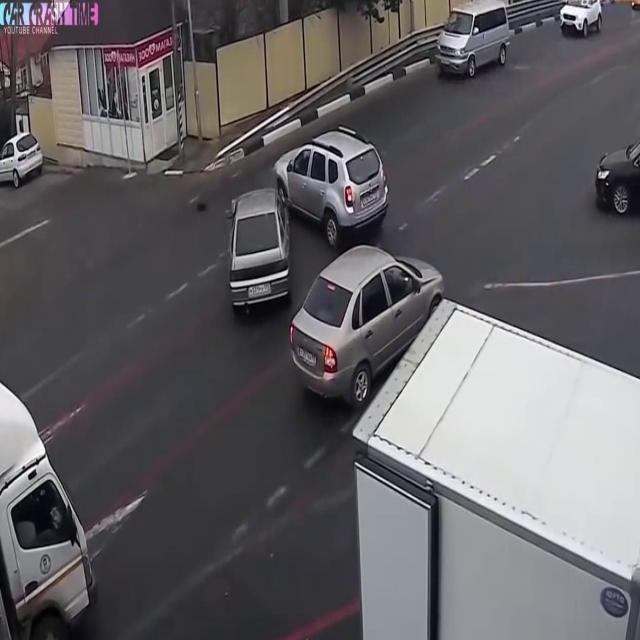accident: (223, 117, 393, 331)
